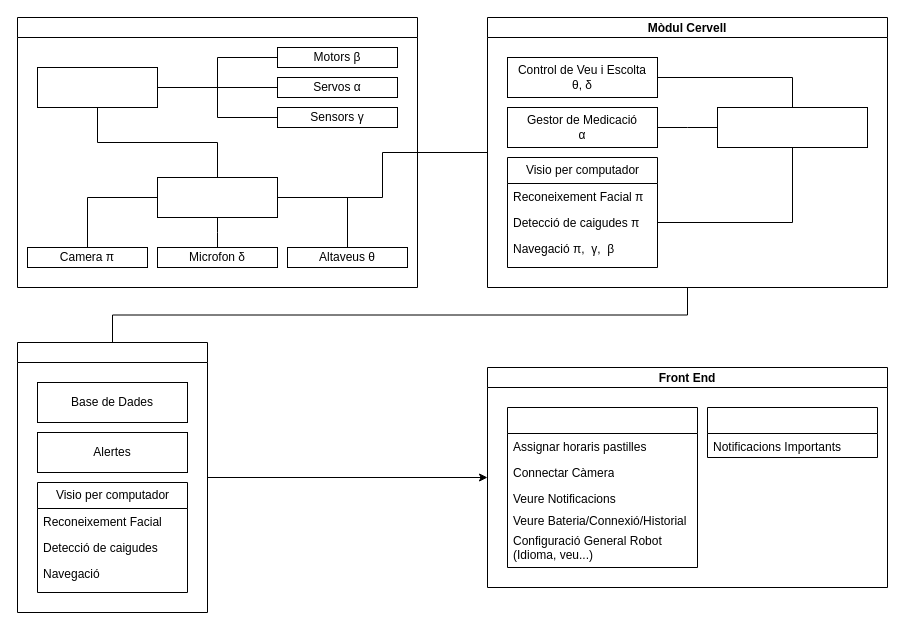
This 905x630 diagram has some shape labels left out. Each missing label, with the box of its shape:
Arduino: (36, 66, 158, 108)
Gestor d'alertes: (716, 106, 868, 148)
Mòdul Cloud: (16, 342, 208, 612)
Mòdul Hardware: (16, 16, 418, 288)
Raspberrypi 4B: (156, 176, 278, 218)
WEB: (506, 406, 698, 568)
WhatsApp: (706, 406, 878, 458)
